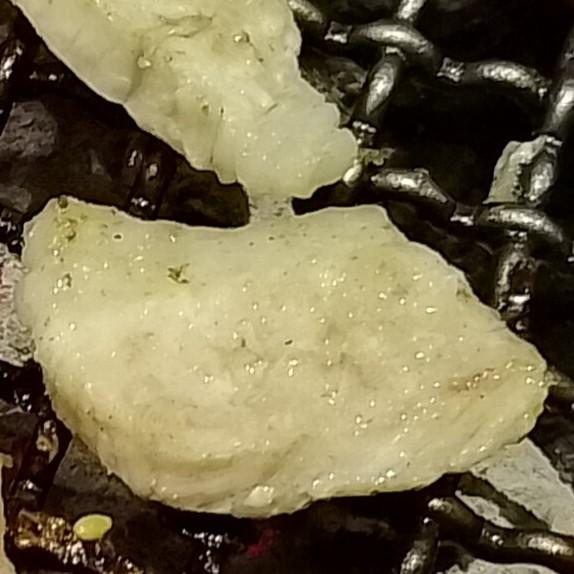Undercooked: (19, 197, 554, 521), (27, 0, 357, 199)
